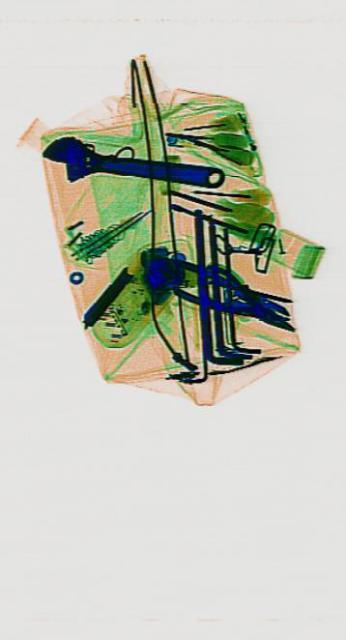Pliers: (167, 250, 294, 346)
Wrench: (39, 130, 222, 198)
